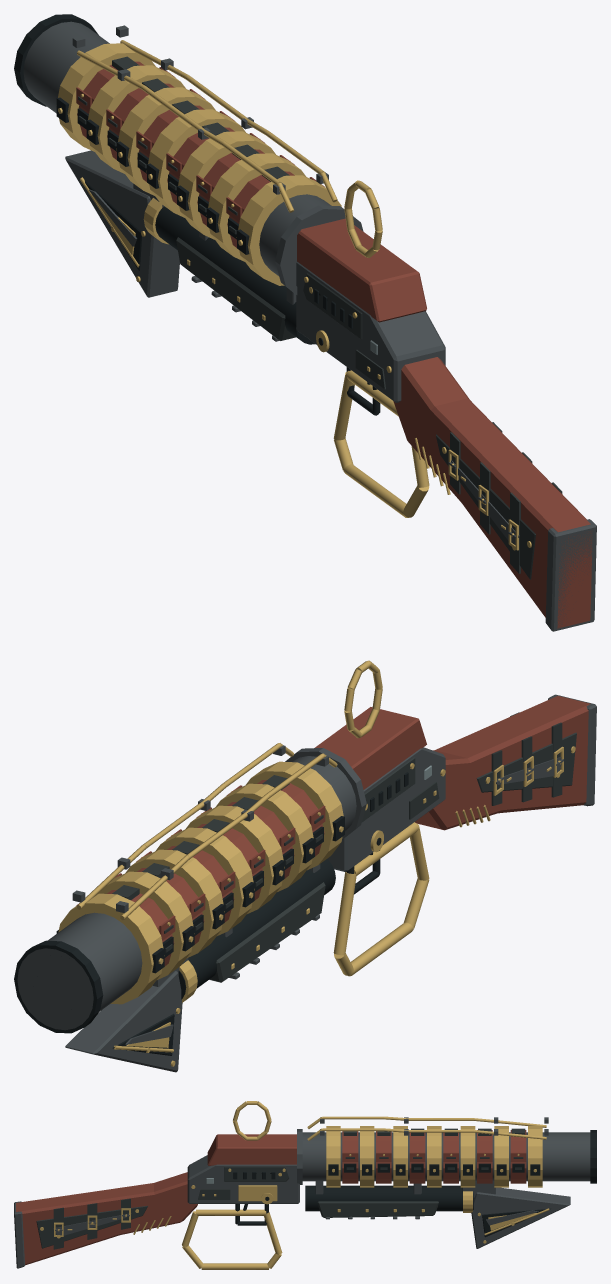
Rendered from slug_0.glb.
The picture shows the model from 3 angles, top to bottom: view 1: azimuth 30°, elevation 25°; view 2: azimuth 150°, elevation 25°; view 3: azimuth 270°, elevation 25°; orthographic projection. The views are drawn at different scales.
Visible parts, largest first — view 1: Weapon_slug_v1; view 2: Weapon_slug_v1; view 3: Weapon_slug_v1.
Boxes of the visible parts, bbox=[...] form: Weapon_slug_v1: bbox=[14, 14, 596, 631]; Weapon_slug_v1: bbox=[14, 660, 596, 1072]; Weapon_slug_v1: bbox=[14, 1101, 596, 1269].
Size of the model in its own units: 0.118 by 0.332 by 1.04.
